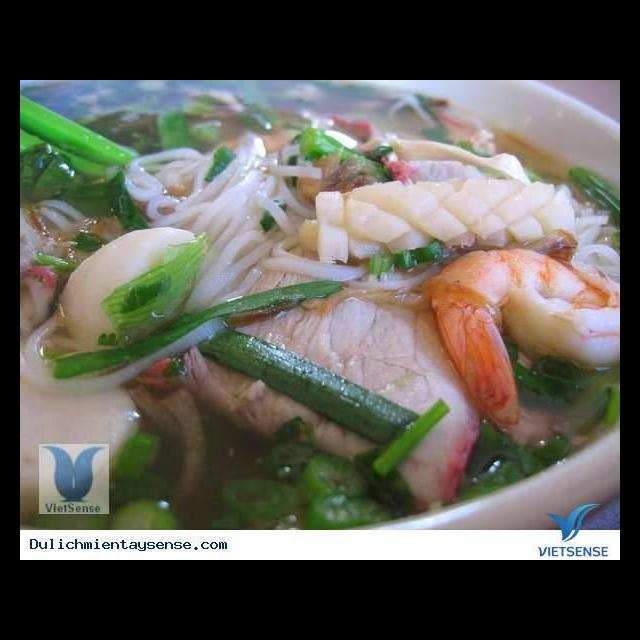banh hu tieu: (123, 124, 327, 322)
hu tieu: (22, 108, 620, 520)
muc: (287, 160, 587, 274), (52, 220, 205, 365)
thit heo: (172, 234, 491, 521)
tom: (415, 241, 620, 436)
